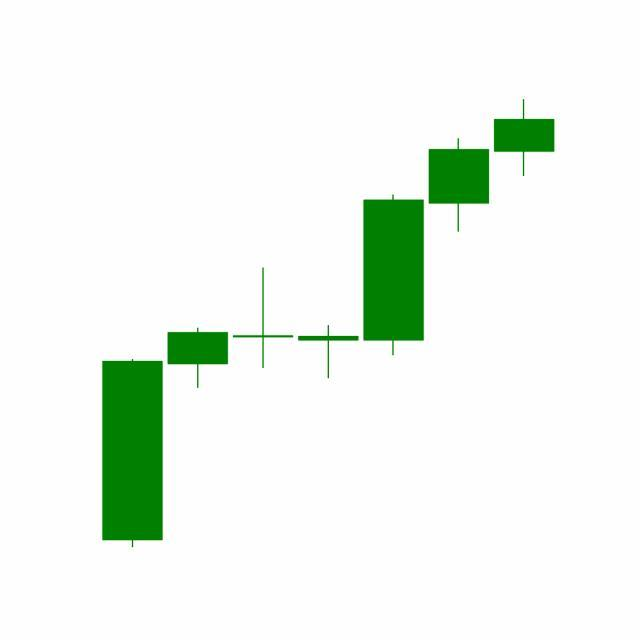Advance Block: (360, 99, 556, 359)
